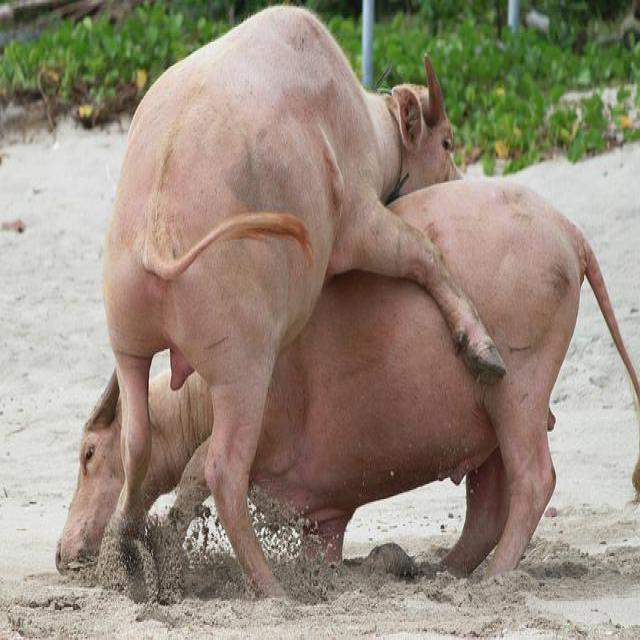Sheep: (98, 5, 506, 601)
